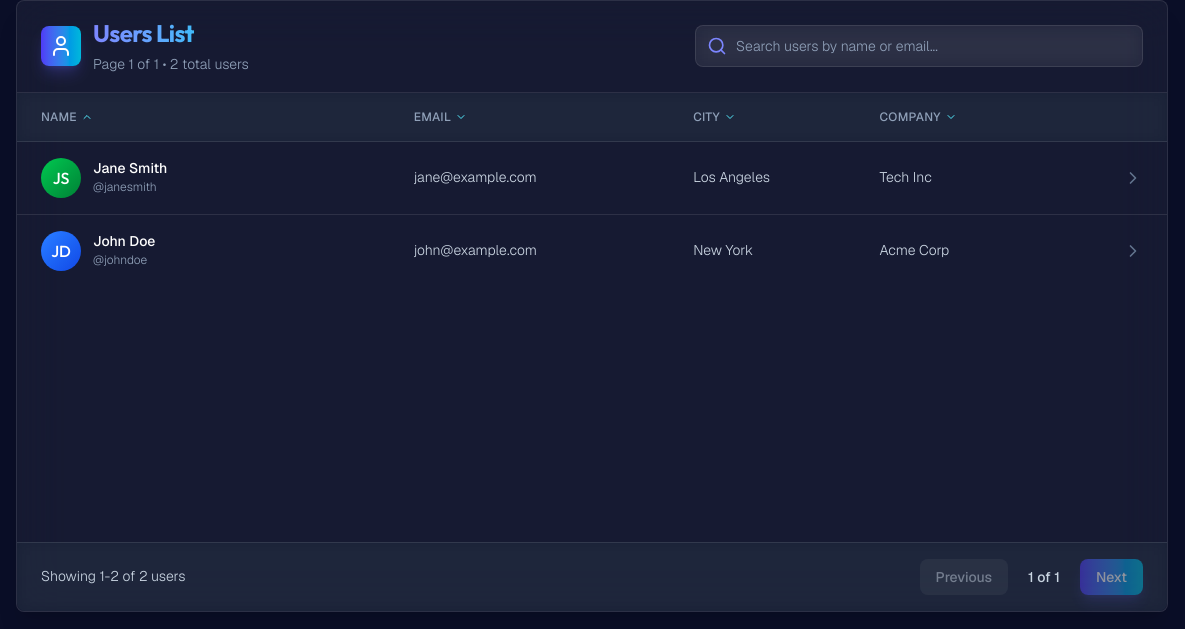
Test: UsersList › filters users by search term
Type "john" into the field with placeholder "Search users by name or email...". click: (919, 46)
box: x1=695 y1=25 x2=1143 y2=67
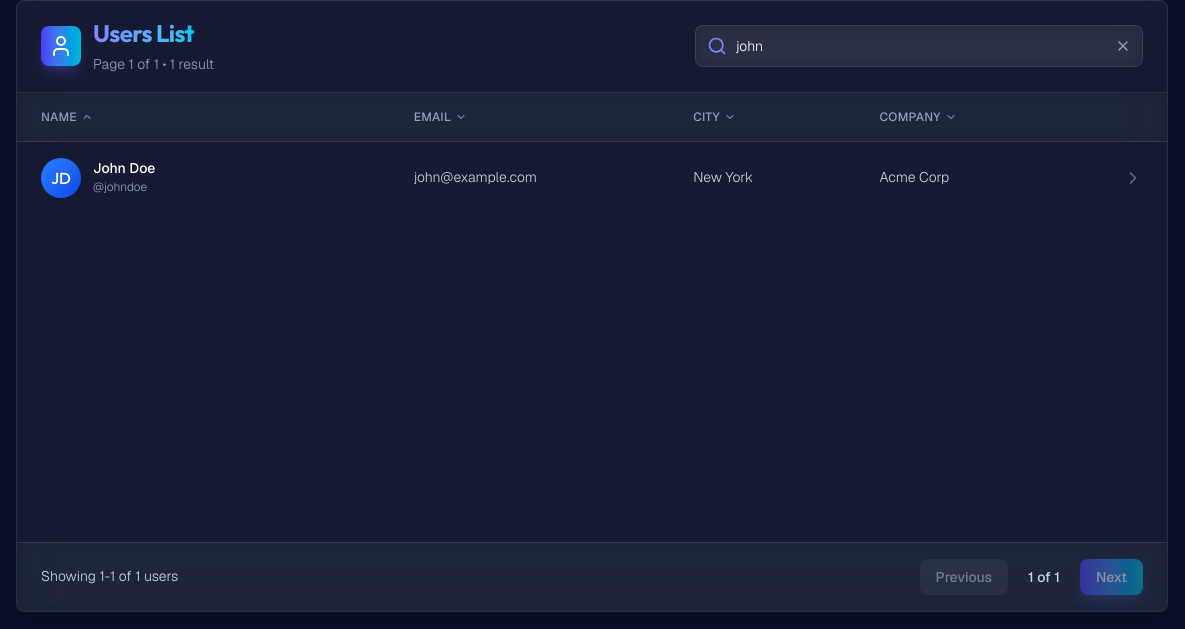
expect the heading "John Doe" is shown: met, box x1=93 y1=159 x2=155 y2=177
expect the button "Jane Smith" is gone: met
